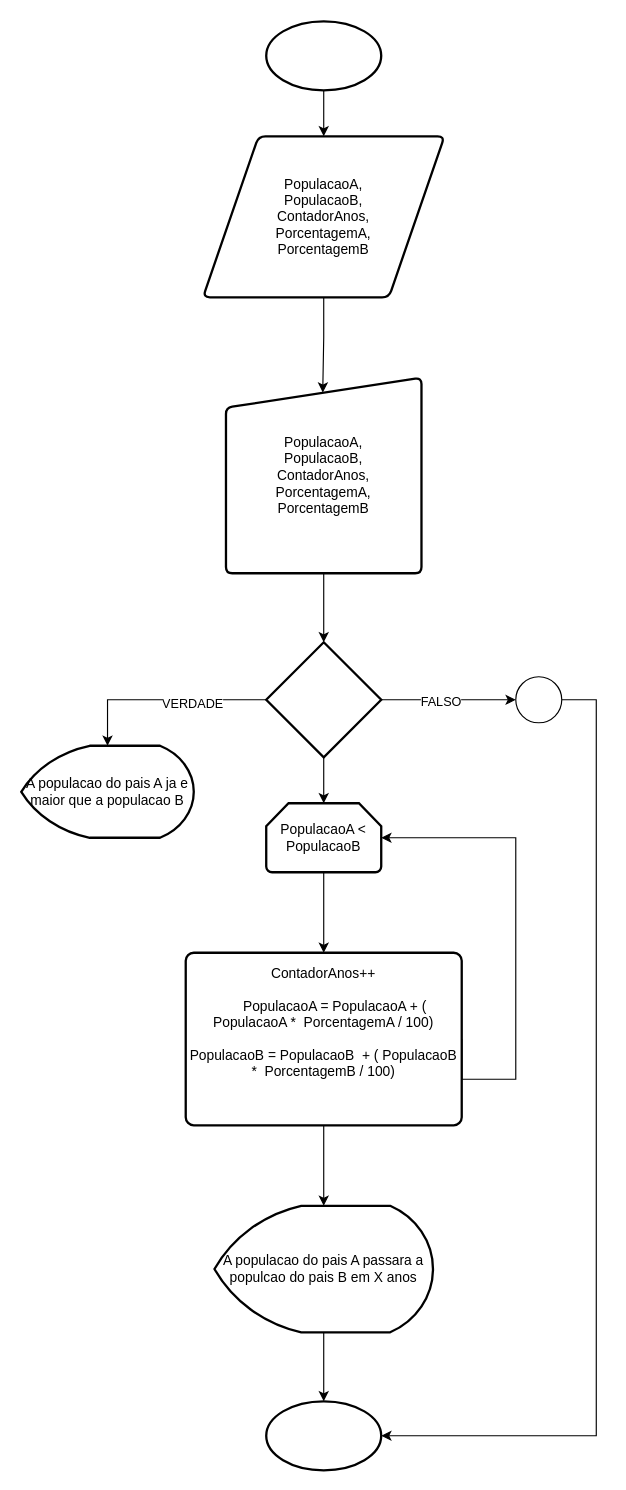
Image size: 626x1490. Some labels were removed from this diagram. The shapes that lost their labels are listed below. From the top down, each one's centre as x and y in pixels, then its label:
At (323,55): "inicio".
At (323,699): "PopulacaoA > PopulacaoB".
At (323,1435): "fim".
